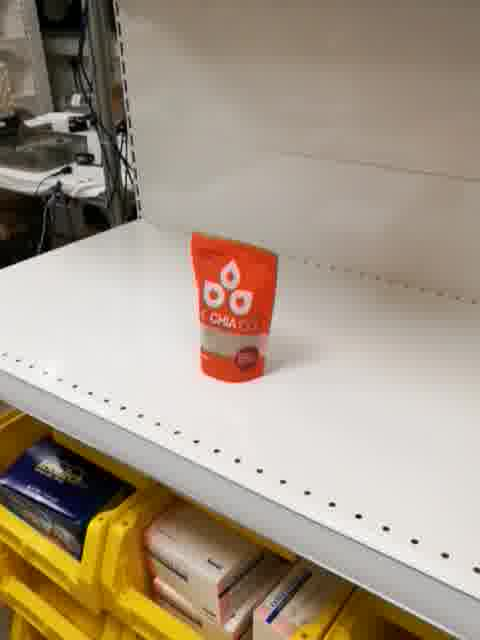whitechia: (187, 225, 280, 384)
